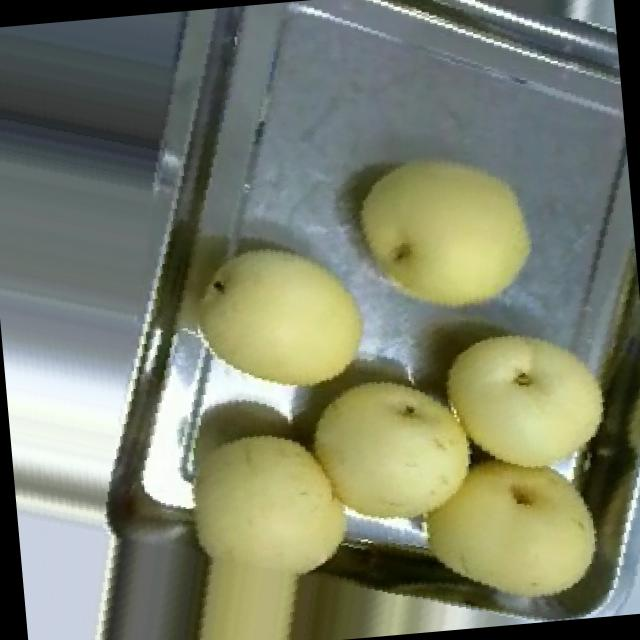Fruit: (138, 390, 383, 640), (324, 118, 566, 352), (281, 334, 517, 570), (154, 208, 398, 430), (390, 426, 624, 634), (412, 296, 636, 501)
